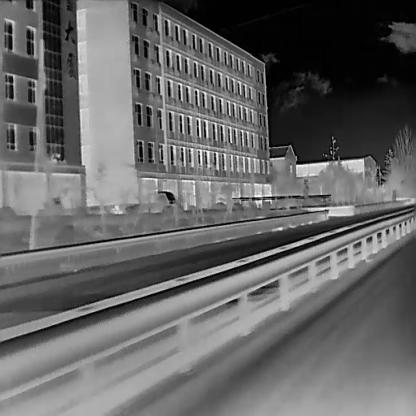truck: (126, 189, 176, 214)
